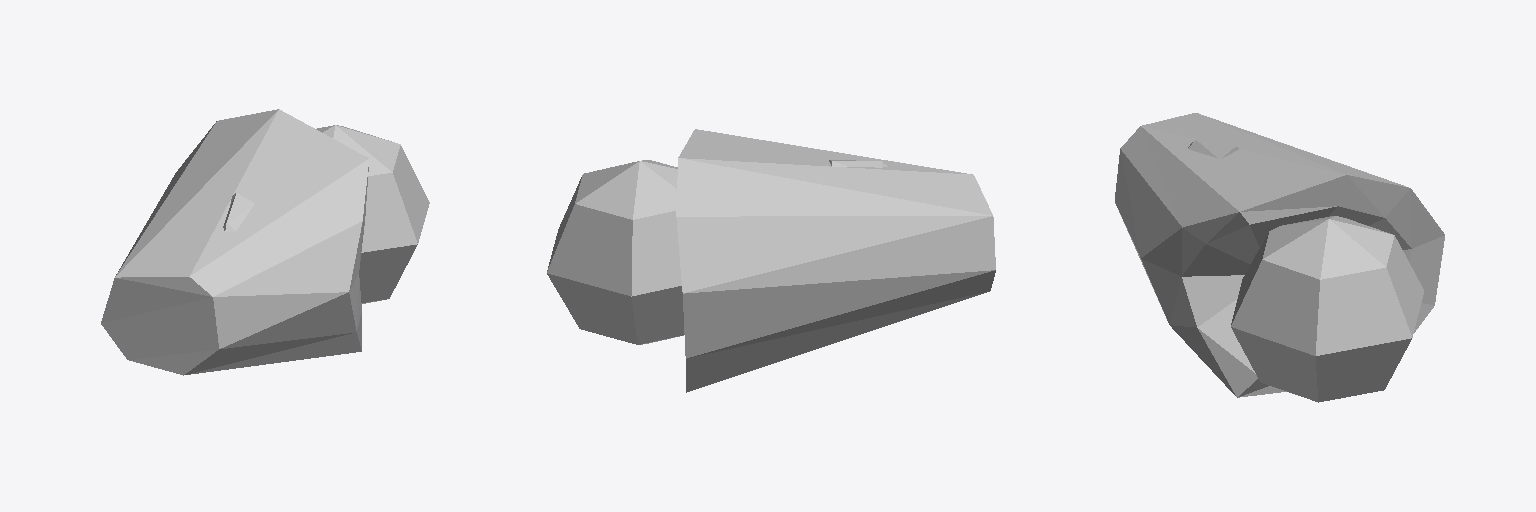
Rendered from buzzlightyRightForearm.obj.
The picture shows the model from 3 angles: view 1: azimuth 30°, elevation 25°; view 2: azimuth 150°, elevation 25°; view 3: azimuth 270°, elevation 25°; orthographic projection.
Visible parts, largest first — view 1: buzzlightyRightForearm_buzzlighty.016; view 2: buzzlightyRightForearm_buzzlighty.016; view 3: buzzlightyRightForearm_buzzlighty.016.
Boxes of the visible parts, <box> form: buzzlightyRightForearm_buzzlighty.016: <box>101,109,429,375</box>; buzzlightyRightForearm_buzzlighty.016: <box>547,129,995,392</box>; buzzlightyRightForearm_buzzlighty.016: <box>1115,113,1444,402</box>.
Bounding box in the file's own units: 0.1712 × 0.0927 × 0.1279.